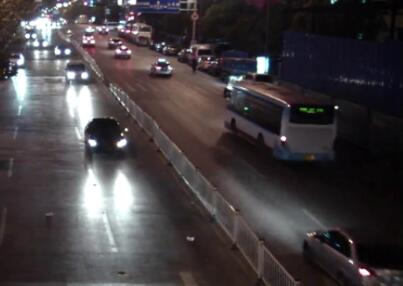bus: (221, 79, 340, 166), (126, 21, 152, 43), (116, 17, 129, 41)
car: (302, 224, 400, 280), (83, 115, 128, 155), (219, 48, 258, 81), (63, 58, 89, 85), (188, 41, 214, 66), (148, 57, 173, 77), (198, 53, 218, 70), (54, 43, 73, 59), (8, 50, 25, 67), (113, 43, 132, 58), (31, 36, 49, 49), (79, 32, 96, 45), (176, 47, 191, 61), (23, 28, 39, 41), (161, 43, 176, 55), (107, 36, 123, 47), (97, 23, 110, 34), (84, 24, 96, 34), (154, 40, 164, 51)
